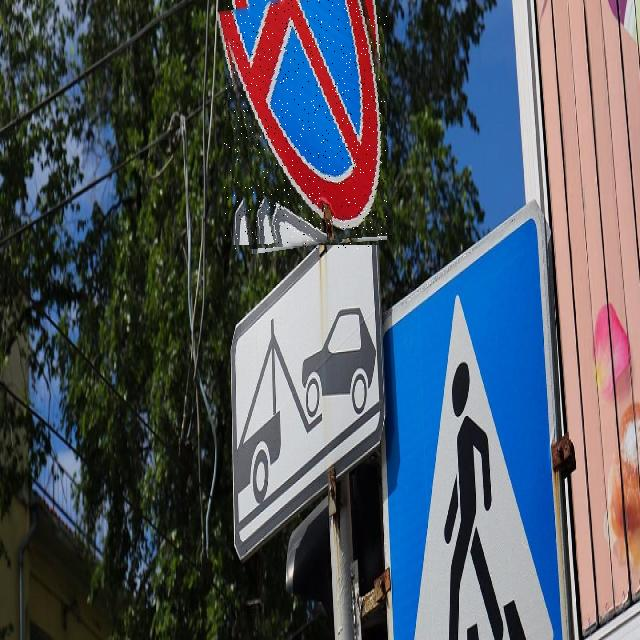no stopping: (224, 0, 387, 249)
